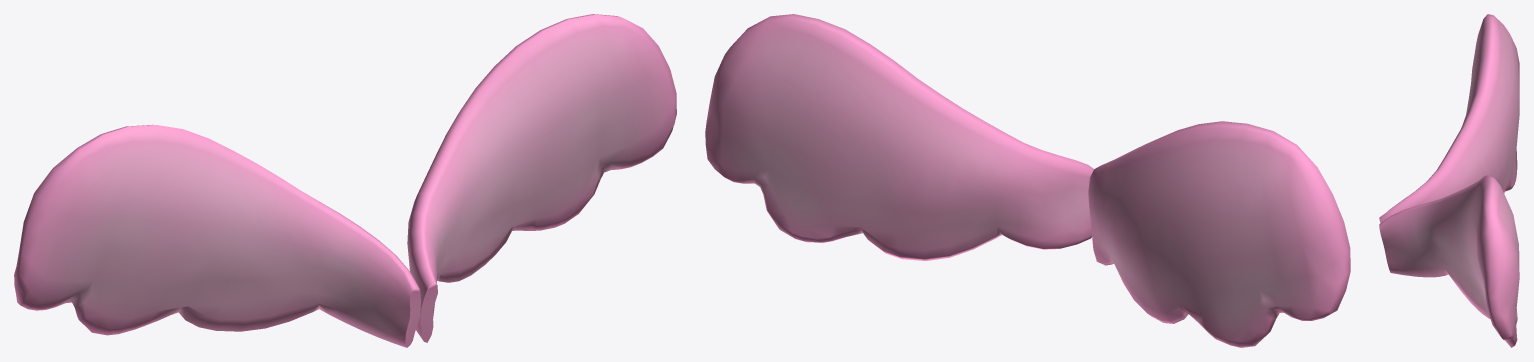
File: WingA.FBX
3 renders of one model, left to right at view 1: azimuth 30°, elevation 25°; view 2: azimuth 150°, elevation 25°; view 3: azimuth 270°, elevation 25°, orthographic. The views are drawn at different scales.
Visible parts, largest first — view 1: Wing_A; view 2: Wing_A; view 3: Wing_A.
Boxes of the visible parts, <box> form: Wing_A: <box>14,14,676,347</box>; Wing_A: <box>705,14,1350,347</box>; Wing_A: <box>1379,14,1519,347</box>.
Bounding box in the file's own units: 448 × 148 × 112.
